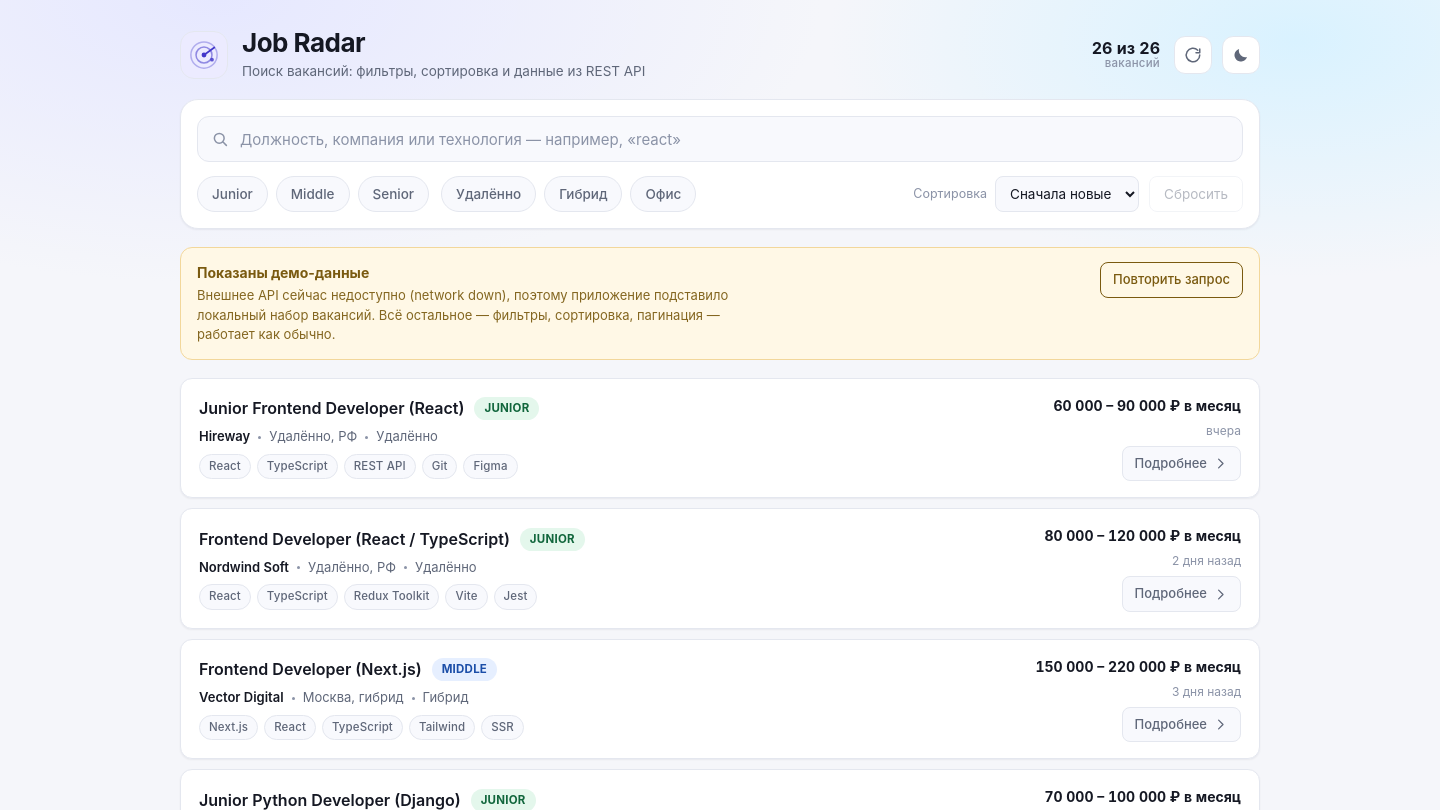
App › показывает пустое состояние, если ничего не найдено
Expected: the text "Показаны демо-данные" is shown, [197,264,369,281]
Type "cobol" into the search field named "Поиск вакансий".
click(720, 139); type("cobol")  # box [197,116,1243,162]
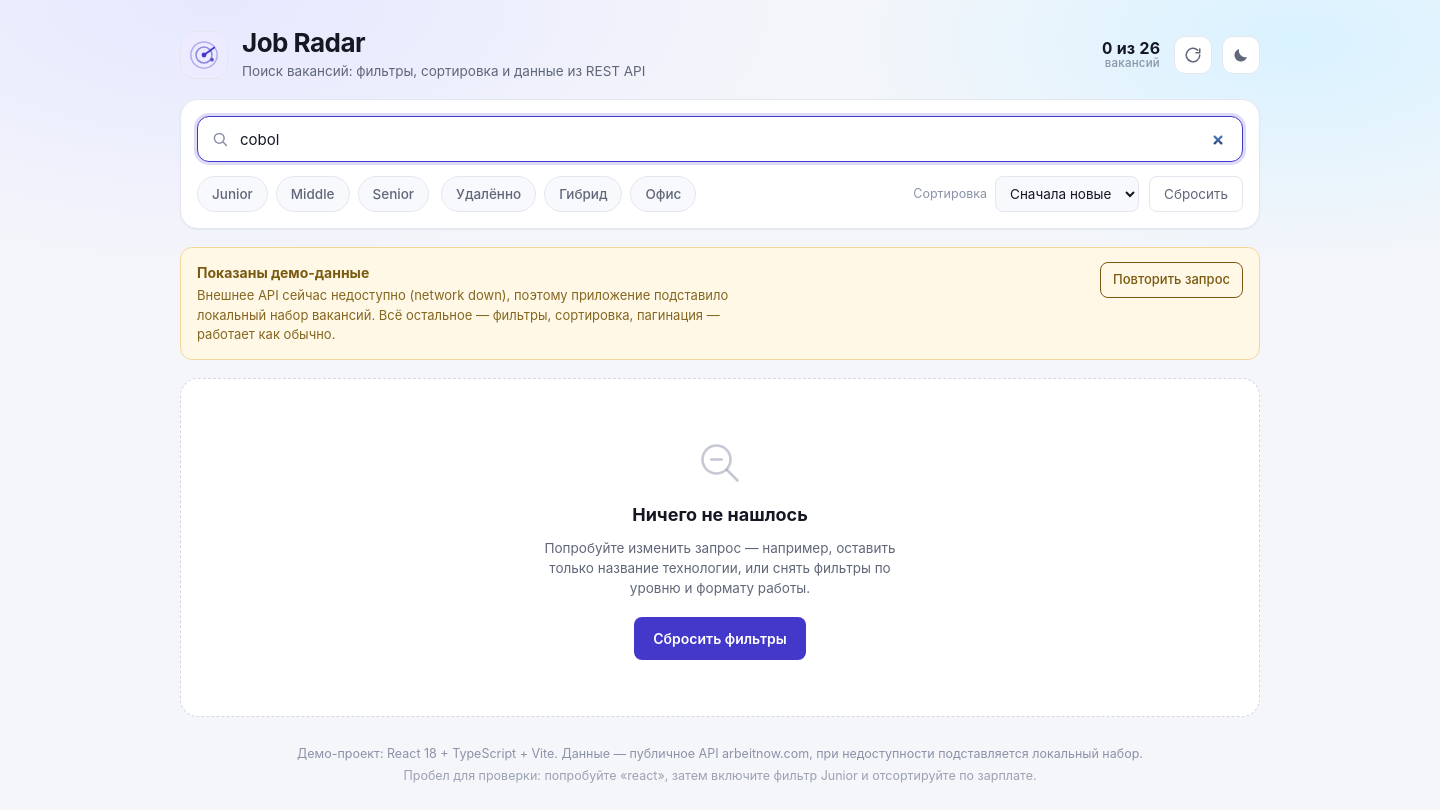
Expected: the heading "Ничего не нашлось" is shown, [632,501,808,528]
